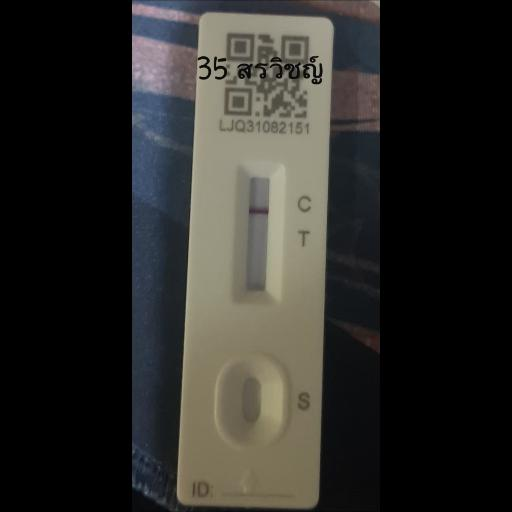Neg: (178, 10, 335, 510)
